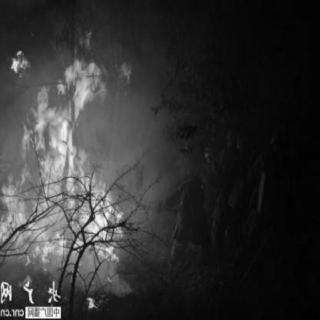Fire: (4, 29, 140, 283)
